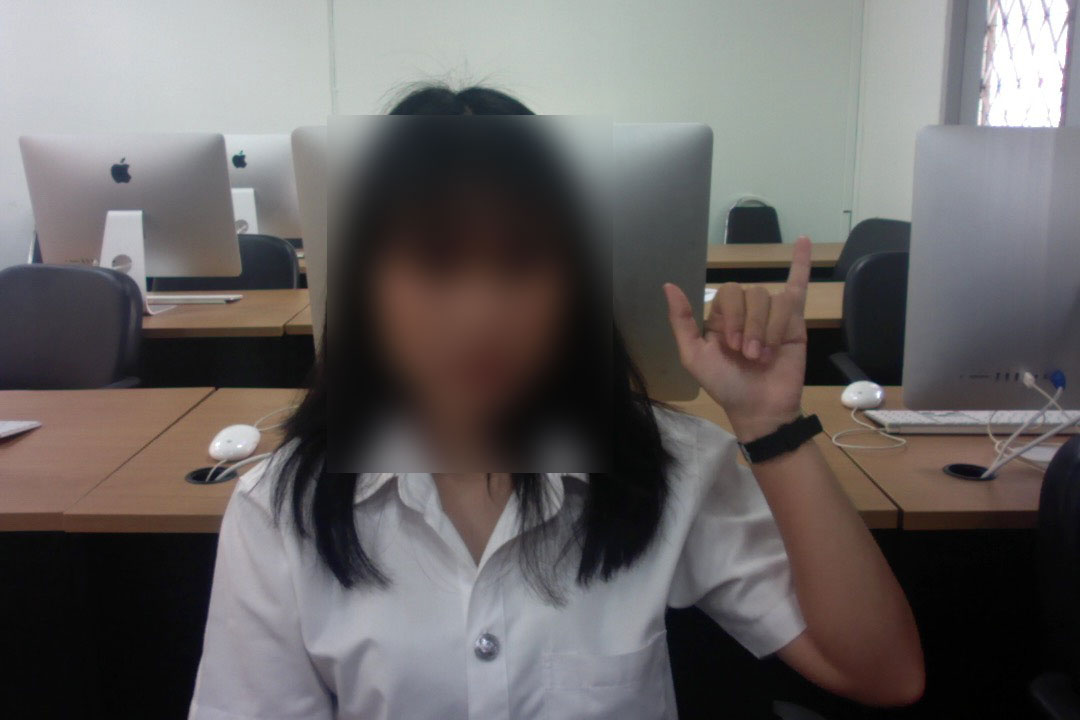yor: (656, 234, 819, 430)
